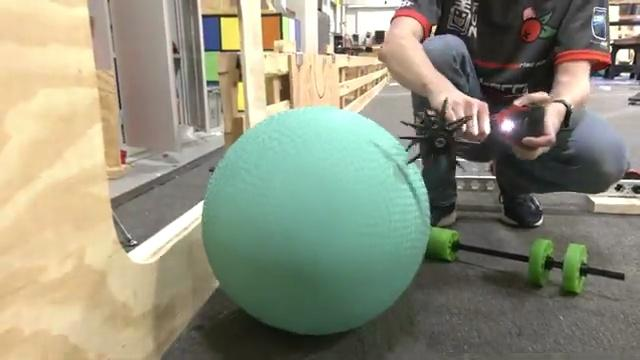ALGAE: (200, 103, 433, 336)
